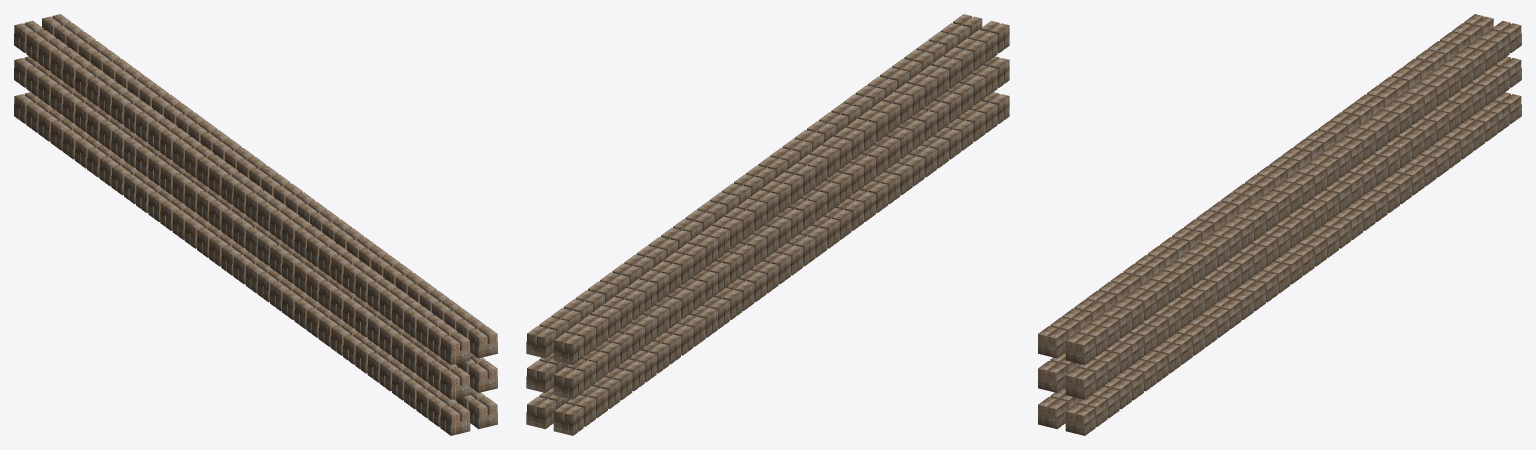
The model's file is fanghanfu.FBX.
The picture shows the model from 3 angles, left to right: view 1: azimuth 30°, elevation 25°; view 2: azimuth 150°, elevation 25°; view 3: azimuth 330°, elevation 25°; orthographic projection.
Visible parts, largest first — view 1: 对象19, 对象21, 对象20, 对象23, 对象22; view 2: 对象19, 对象21, 对象20, 对象23, 对象22; view 3: 对象22, 对象23, 对象19, 对象21, 对象20.
Boxes of the visible parts, x1,y1,x2,y2 form: 对象19: [14, 21, 470, 364]; 对象21: [14, 92, 470, 435]; 对象20: [14, 56, 470, 399]; 对象23: [42, 14, 497, 358]; 对象22: [453, 352, 497, 429]; 对象19: [553, 20, 1009, 364]; 对象21: [553, 92, 1009, 435]; 对象20: [553, 56, 1009, 399]; 对象23: [526, 14, 982, 358]; 对象22: [526, 353, 570, 429]; 对象22: [1065, 56, 1521, 435]; 对象23: [1065, 21, 1521, 364]; 对象19: [1038, 14, 1493, 358]; 对象21: [1038, 387, 1081, 429]; 对象20: [1038, 352, 1080, 392].
Bounding box in the file's own units: 1.91 × 30.74 × 3.53.
